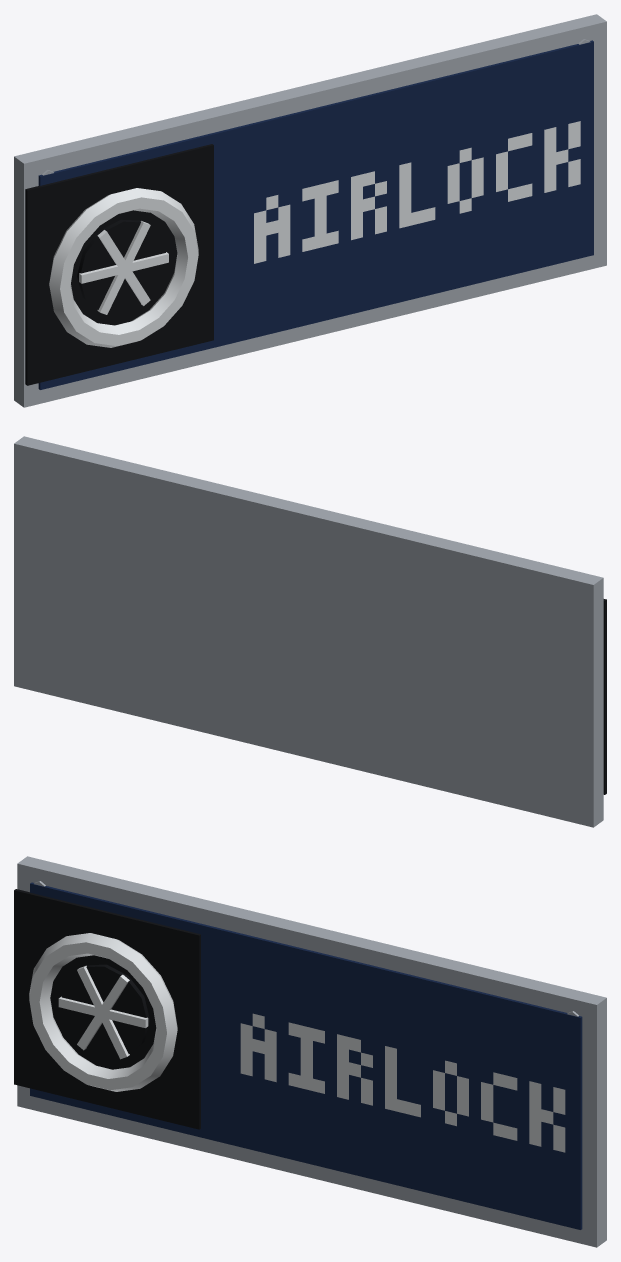
File: sign_dept_airlock.glb
3 renders of one model, top to bottom at view 1: azimuth 30°, elevation 25°; view 2: azimuth 150°, elevation 25°; view 3: azimuth 330°, elevation 25°, orthographic.
Visible parts, largest first — view 1: sign_dept_airlock; view 2: sign_dept_airlock; view 3: sign_dept_airlock.
Boxes of the visible parts, x1,y1,x2,y2 form: sign_dept_airlock: [14, 14, 606, 407]; sign_dept_airlock: [14, 436, 606, 827]; sign_dept_airlock: [14, 856, 606, 1247].
Bounding box in the file's own units: 1 × 0.4 × 0.0656.
